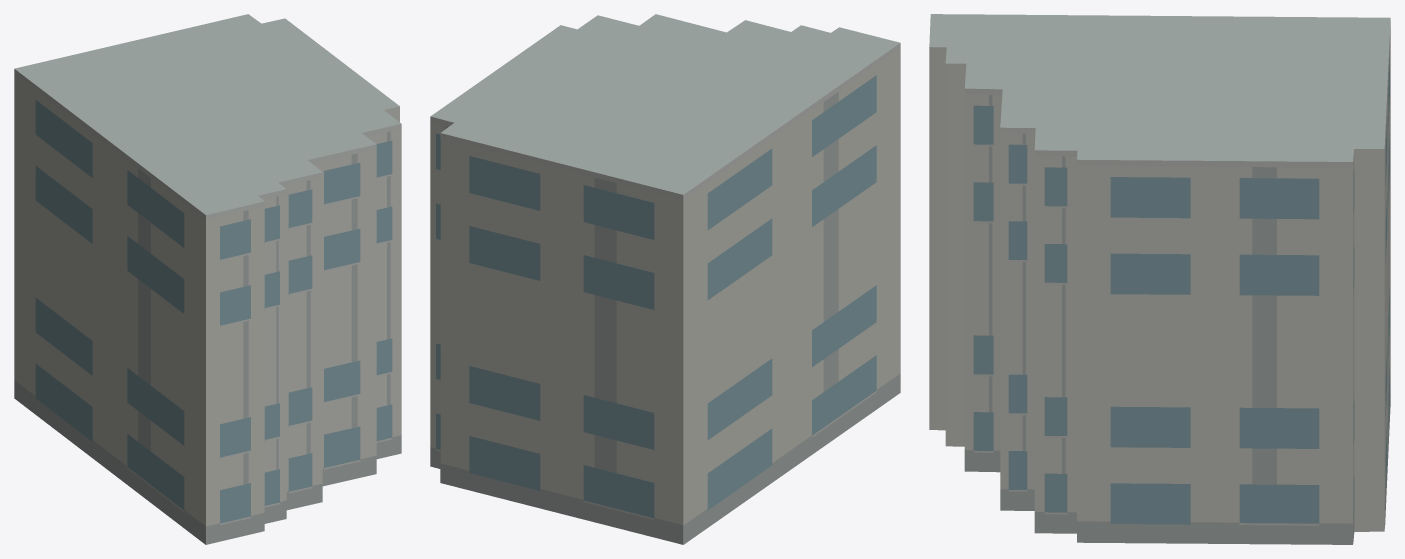
Rendered from survey-upis-32841108.glb.
The picture shows the model from 3 angles, left to right: view 1: azimuth 30°, elevation 25°; view 2: azimuth 150°, elevation 25°; view 3: azimuth 270°, elevation 25°; orthographic projection. The views are drawn at different scales.
Visible parts, largest first — view 1: survey-upis-32841108.tmp; view 2: survey-upis-32841108.tmp; view 3: survey-upis-32841108.tmp.
Boxes of the visible parts, x1,y1,x2,y2 form: survey-upis-32841108.tmp: [14, 14, 401, 544]; survey-upis-32841108.tmp: [430, 14, 900, 544]; survey-upis-32841108.tmp: [929, 14, 1390, 544].
Size of the model in its own units: 13.19 by 15.9 by 17.37.
